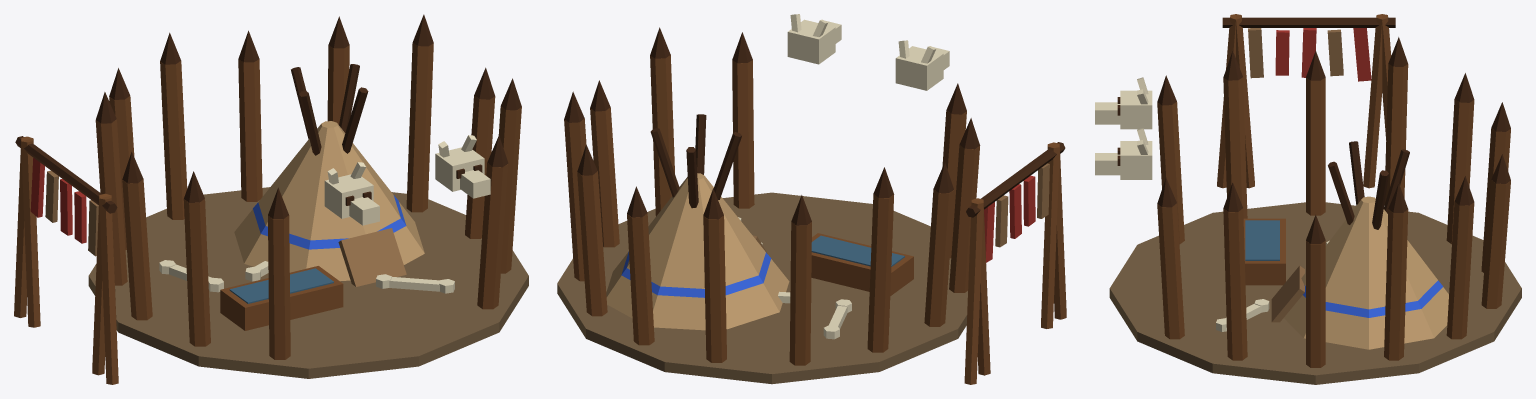
File: Stables.glb
3 renders of one model, left to right at view 1: azimuth 30°, elevation 25°; view 2: azimuth 150°, elevation 25°; view 3: azimuth 270°, elevation 25°, orthographic. The views are drawn at different scales.
Visible parts, largest first — view 1: Stables; view 2: Stables; view 3: Stables.
Boxes of the visible parts, <box> form: Stables: <box>14,14,528,384</box>; Stables: <box>557,14,1066,384</box>; Stables: <box>1095,14,1521,384</box>.
Bounding box in the file's own units: 3.8 × 1.66 × 3.39.
